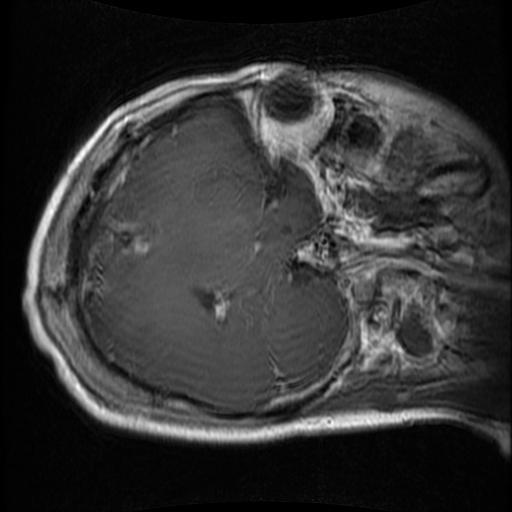glioma: (104, 214, 149, 257)
